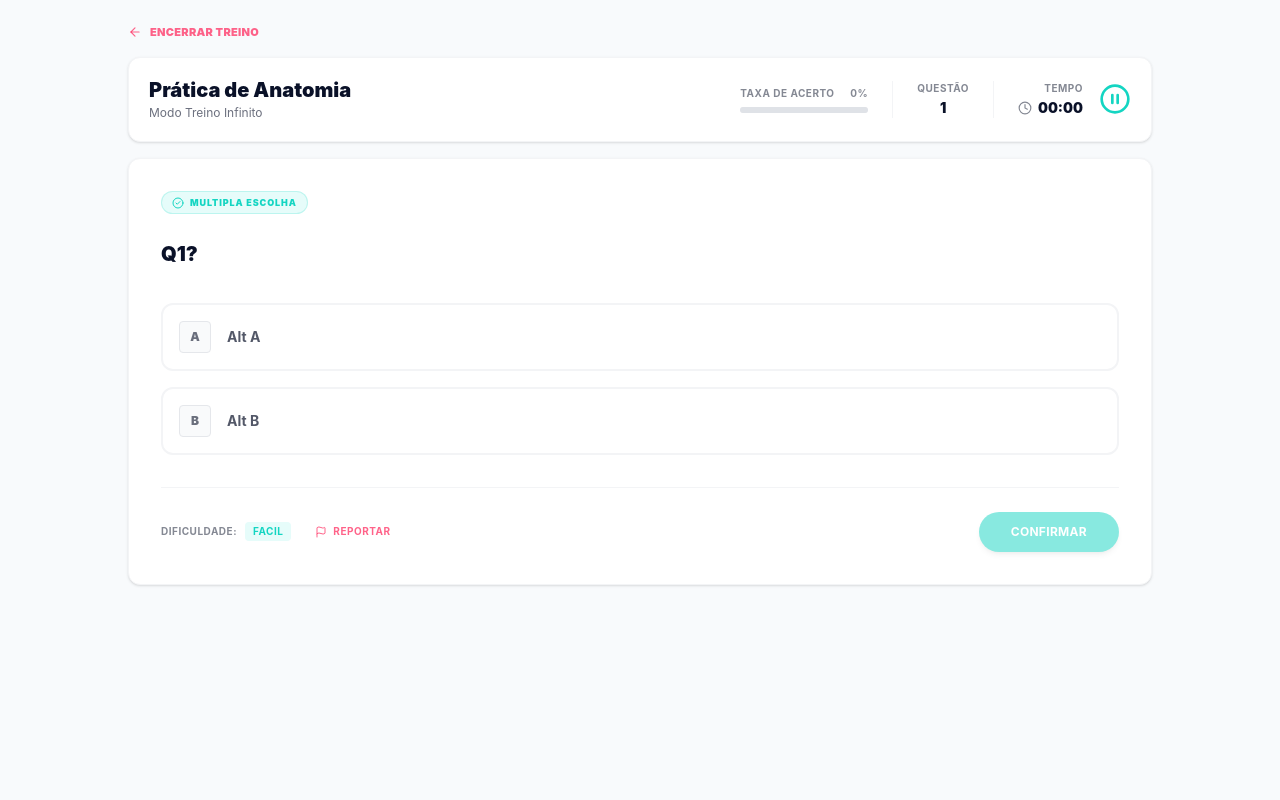
Test: ResponderQuizPage - Treino Infinito › deve calcular taxa de acerto e testar loop infinito
expect the heading "Q1?" is shown: met, box [161,242,198,266]
Click the text "Alt B" at point(243, 421), box [227,411,259,431]
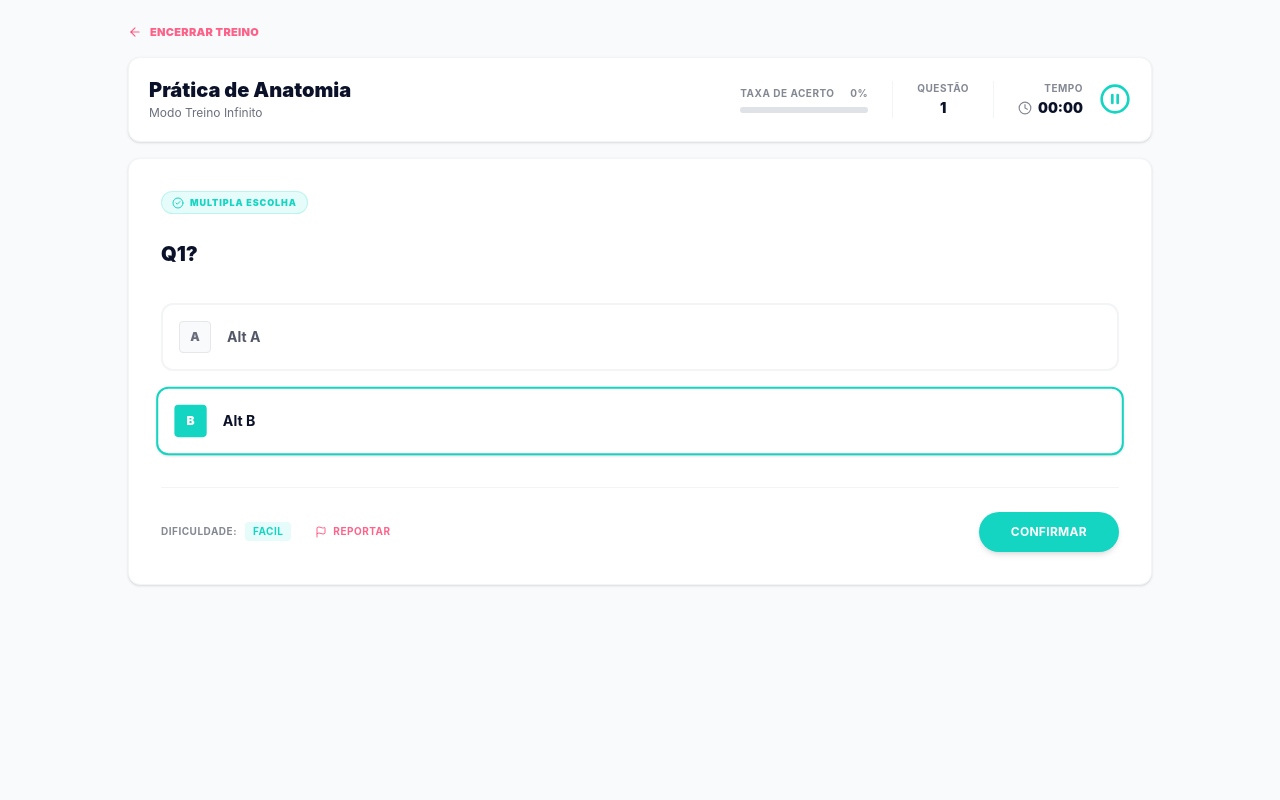
Click the button "Confirmar" at point(1049, 532), box [979,512,1119,552]
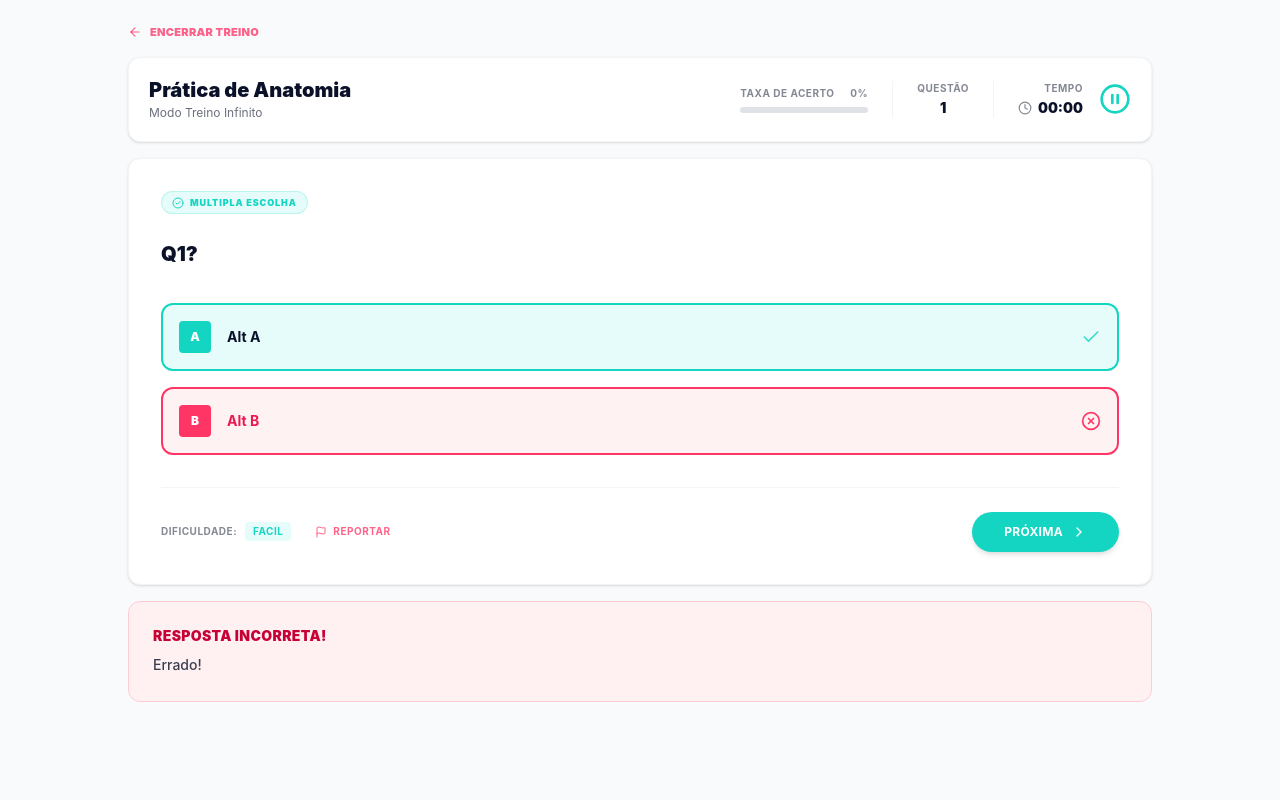
expect the text "0%" is shown: met, box [850,86,868,100]
expect the button "Próxima" is shown: met
Click the button "Próxima" at point(1046, 532), box [972,512,1119,552]
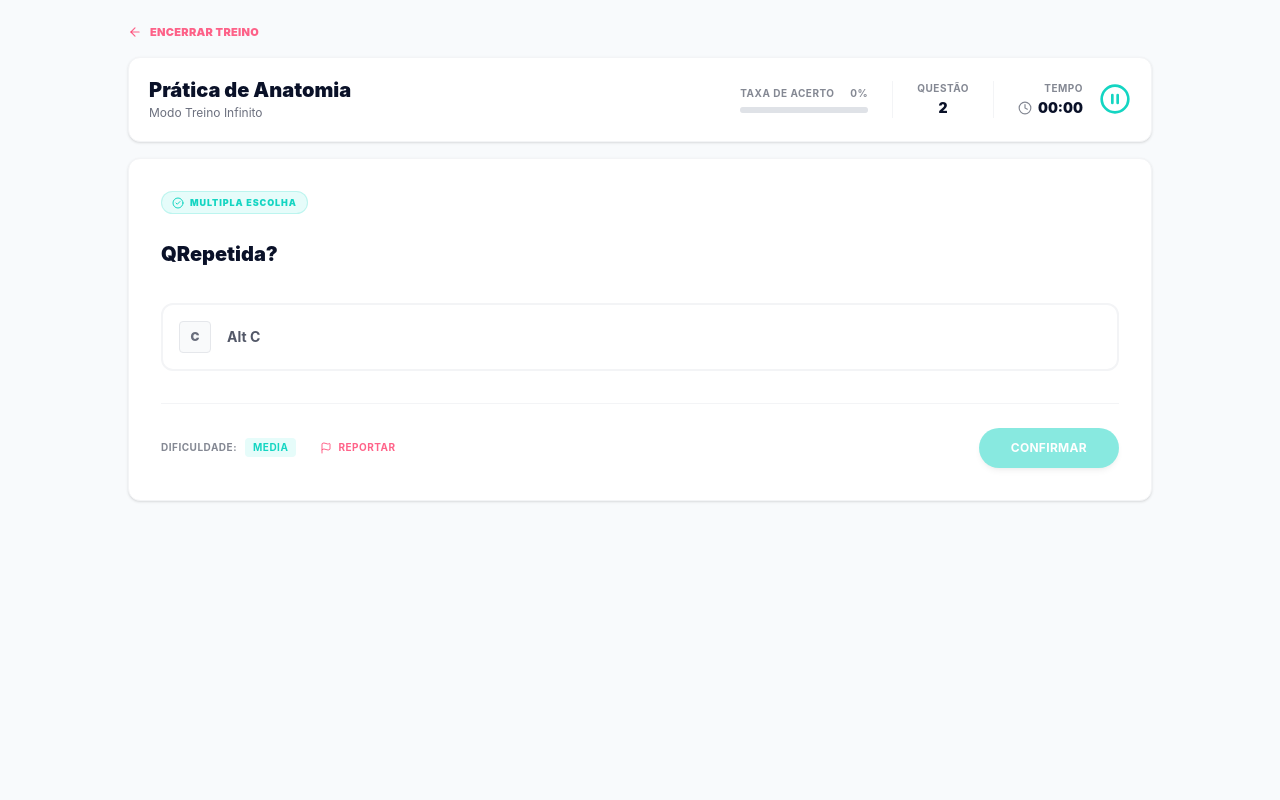
expect the text "2" is shown: met, box [939,98,948,116]
expect the heading "QRepetida?" is shown: met, box [161,242,278,266]
Click the text "Alt C" at point(244, 337), box [227,327,260,347]
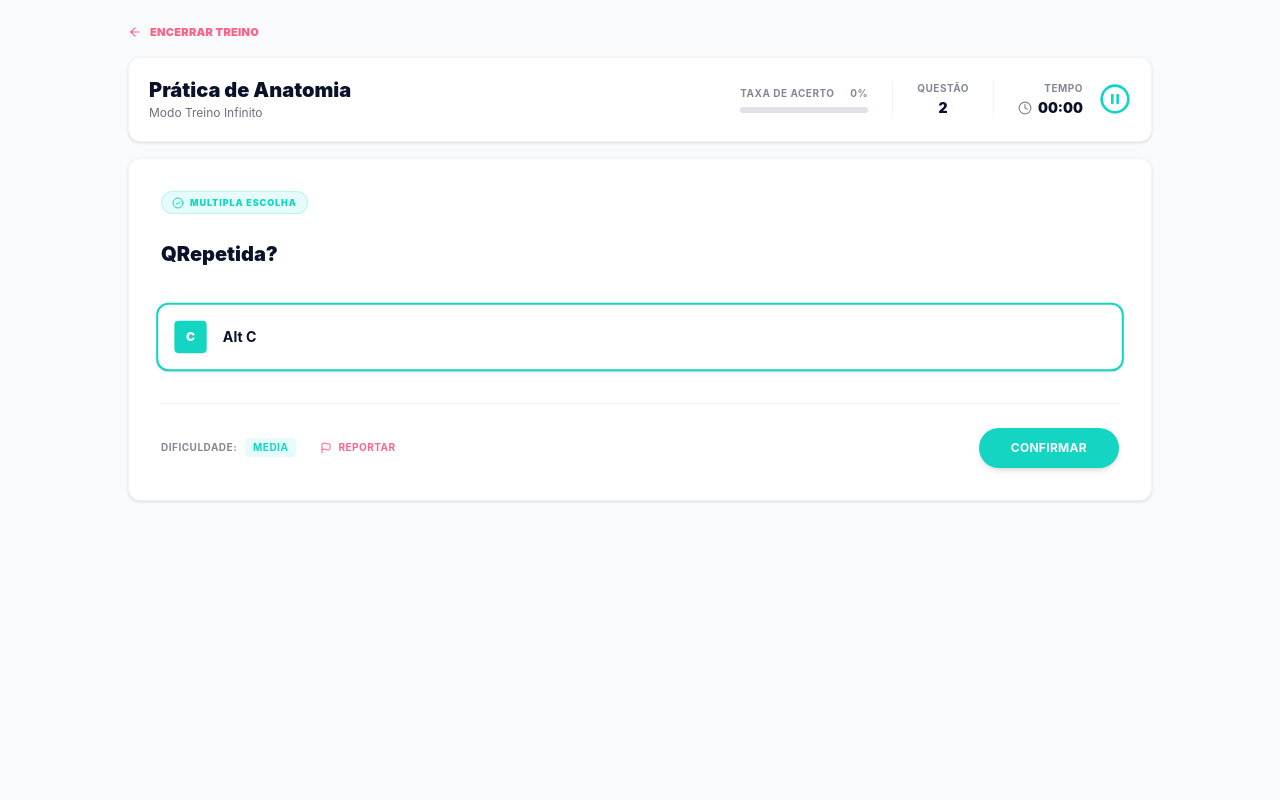
Click the button "Confirmar" at point(1049, 448), box [979,428,1119,468]
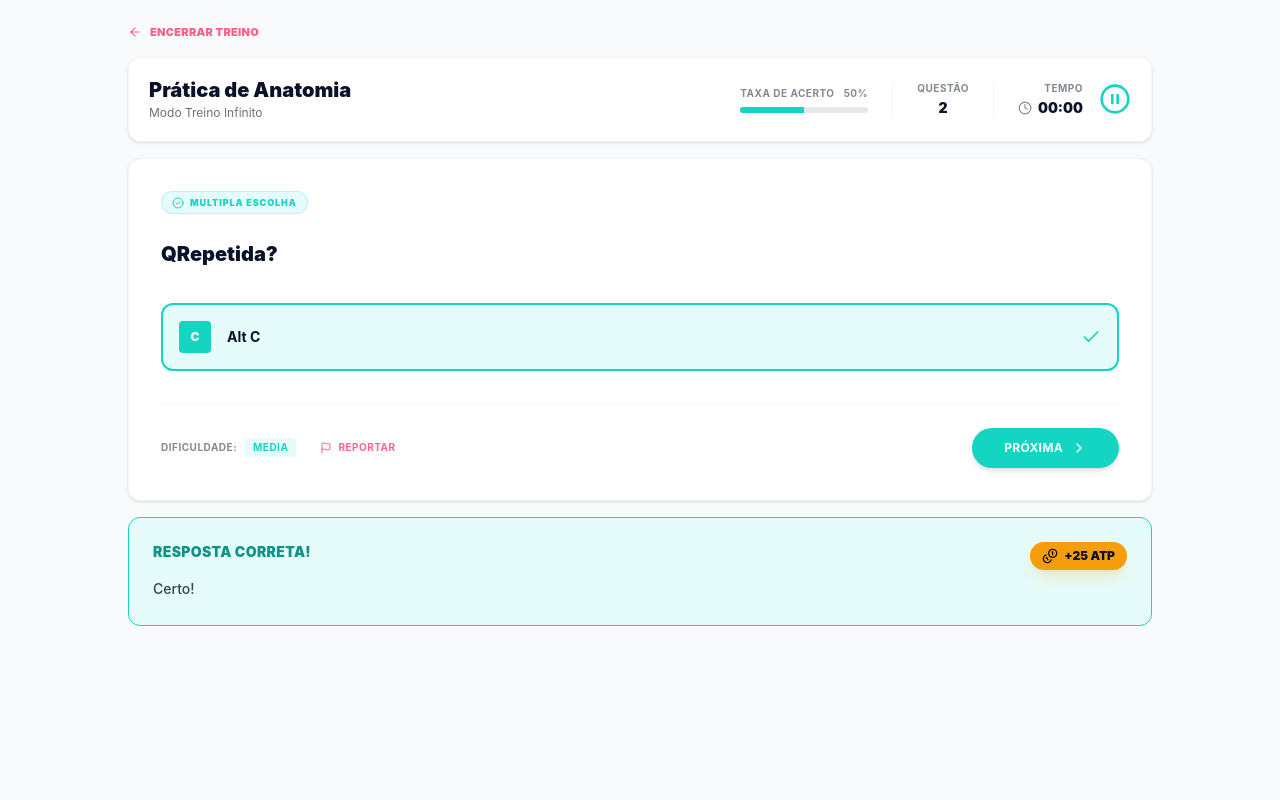
expect the button "Próxima" is shown: met, box [972,428,1119,468]
expect the text "50%" is shown: met, box [844,86,868,100]
